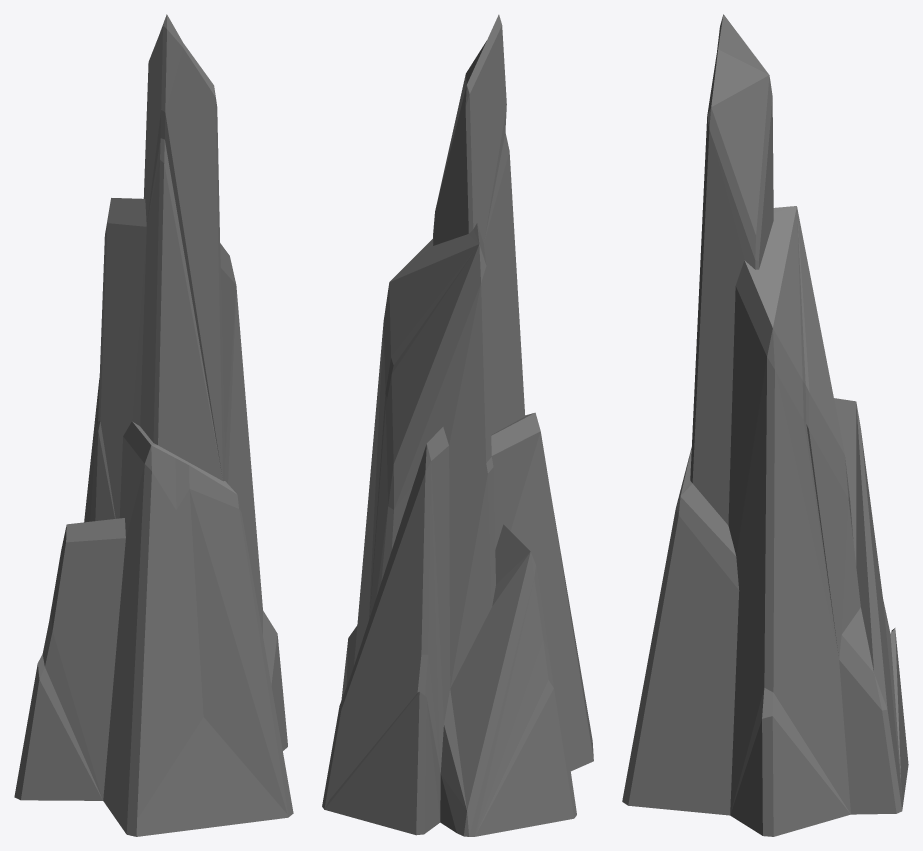
File: model_polytope_rock_large02.fbx
3 views of the same model, side by side, from view 1: azimuth 30°, elevation 25°; view 2: azimuth 150°, elevation 25°; view 3: azimuth 270°, elevation 25° (orthographic). The views are drawn at different scales.
Visible parts, largest first — view 1: model_polyope_rock_large02; view 2: model_polyope_rock_large02; view 3: model_polyope_rock_large02.
Boxes of the visible parts, bbox=[...] form: model_polyope_rock_large02: bbox=[14, 14, 293, 836]; model_polyope_rock_large02: bbox=[322, 14, 593, 836]; model_polyope_rock_large02: bbox=[622, 14, 908, 836].
Bounding box in the file's own units: 2095 × 6047 × 2076.
